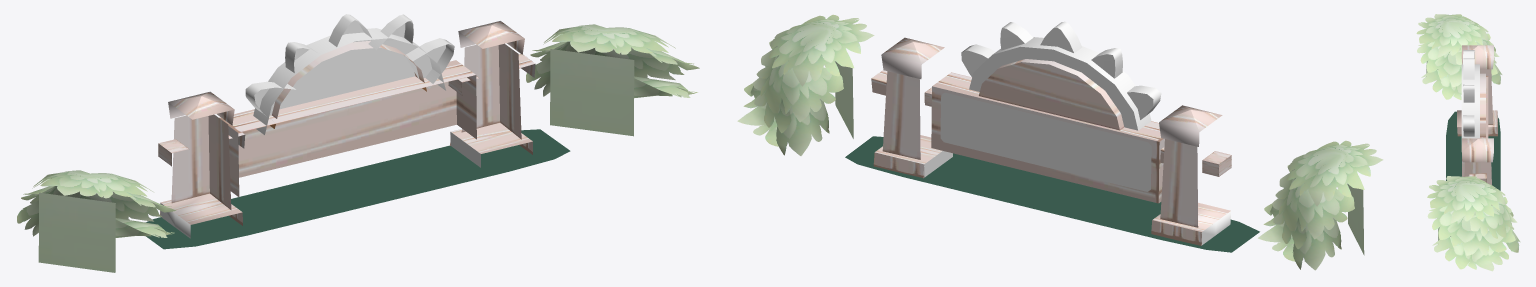
The model's file is DecoNameSign1.fbx.
3 views of the same model, side by side, from view 1: azimuth 30°, elevation 25°; view 2: azimuth 150°, elevation 25°; view 3: azimuth 270°, elevation 25° (orthographic). The views are drawn at different scales.
Visible parts, largest first — view 1: NamesignBase1, Bush (×2), ShadowSquare; view 2: NamesignBase1, Bush (×2), ShadowSquare; view 3: Bush (×2), NamesignBase1, ShadowSquare.
Boxes of the visible parts, x1,y1,x2,y2 form: NamesignBase1: (158, 14, 535, 238); Bush (×2): (17, 24, 699, 272); ShadowSquare: (145, 129, 570, 249); NamesignBase1: (871, 21, 1231, 245); Bush (×2): (737, 14, 1383, 270); ShadowSquare: (845, 136, 1259, 252); Bush (×2): (1416, 14, 1520, 271); NamesignBase1: (1457, 45, 1497, 205); ShadowSquare: (1446, 111, 1500, 190).
Size of what is drawn, in the model's own units: 6.49 by 1.65 by 1.4.
